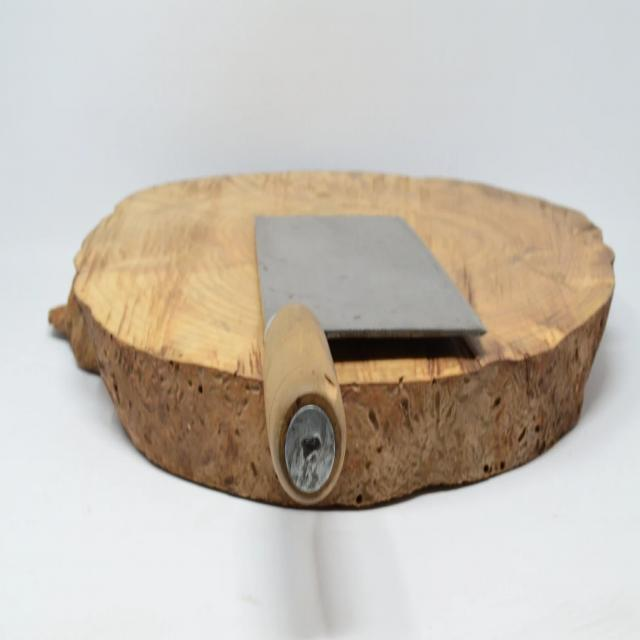cleaver: (241, 208, 491, 524)
